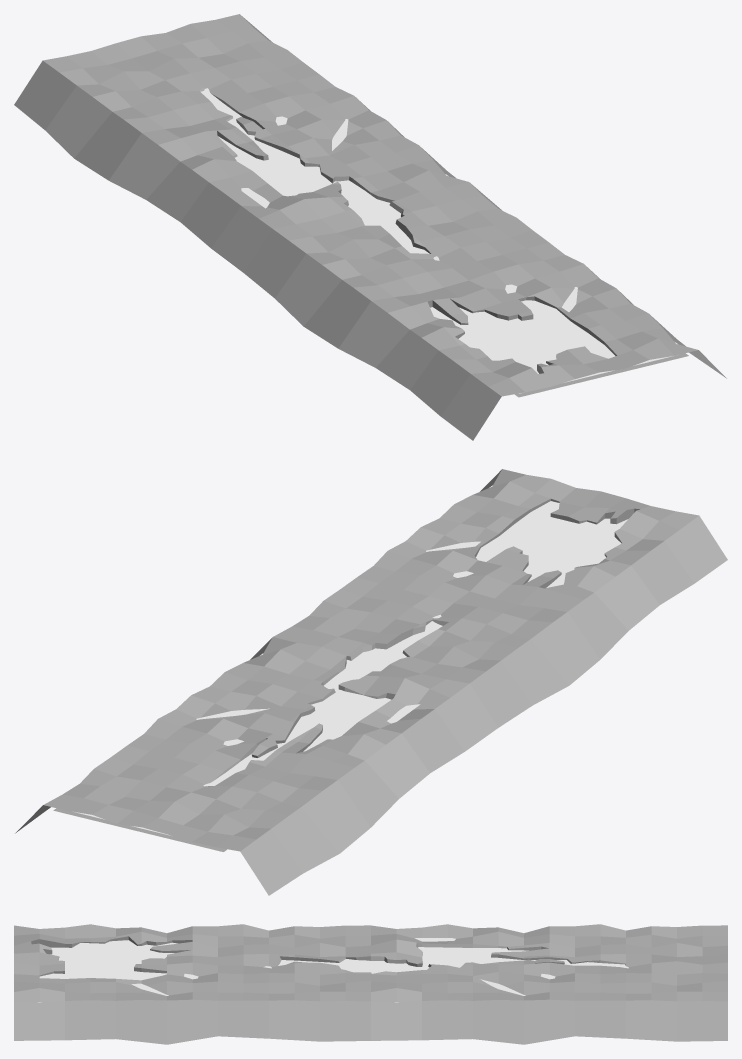
Rendered from bh_ground_small_01.fbx.
The picture shows the model from 3 angles, top to bottom: view 1: azimuth 30°, elevation 25°; view 2: azimuth 150°, elevation 25°; view 3: azimuth 270°, elevation 25°; orthographic projection. The views are drawn at different scales.
Parts seen in each view (by area): view 1: bh_ground_small_01; view 2: bh_ground_small_01; view 3: bh_ground_small_01.
Part boxes in pixels (x1=…): bh_ground_small_01: x1=14, y1=14, x2=726, y2=440; bh_ground_small_01: x1=15, y1=469, x2=727, y2=895; bh_ground_small_01: x1=14, y1=924, x2=727, y2=1044.
Bounding box in the file's own units: 6.65 × 20 × 1.14.
